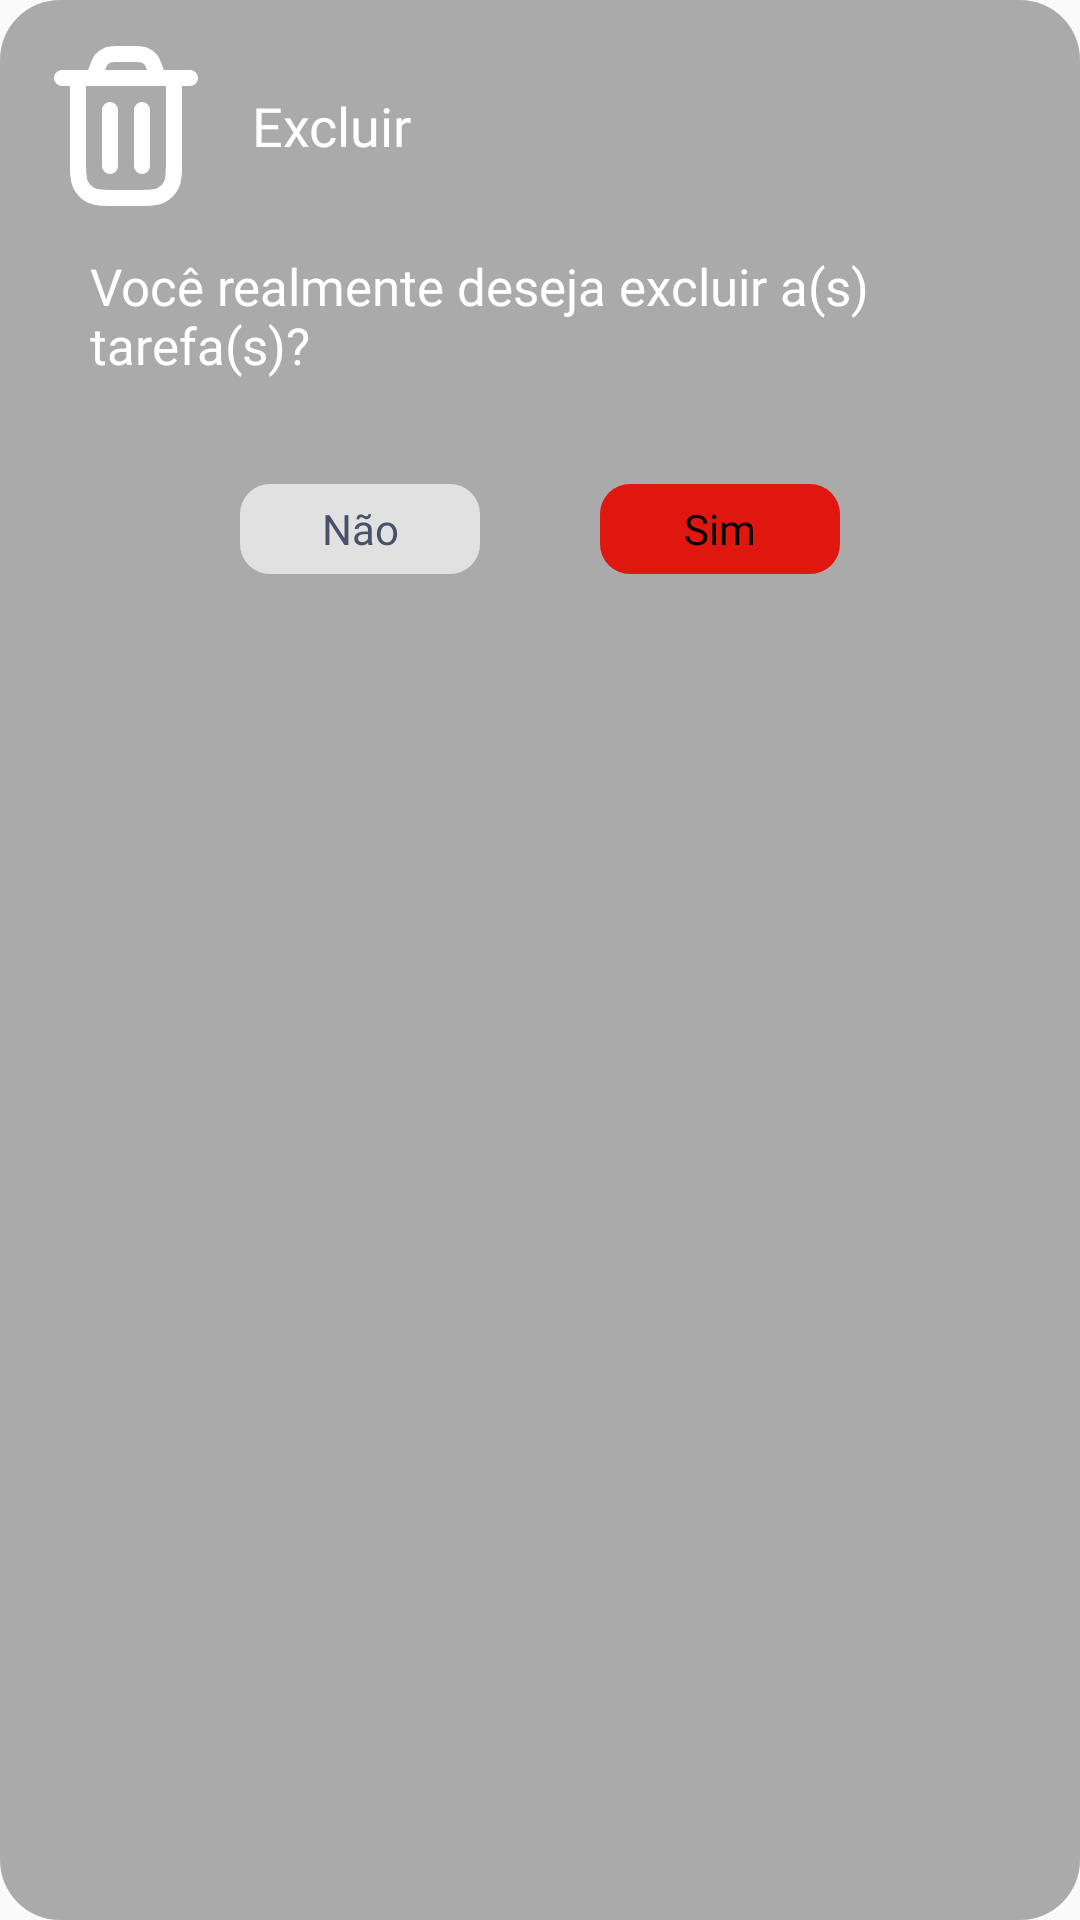

Screen size 1080 × 1920. Icon name, then its box in pixels as {"x1": x1, "y1": y1, "x2": x2, "y2": y2}:
trash: {"x1": 54, "y1": 46, "x2": 198, "y2": 206}
